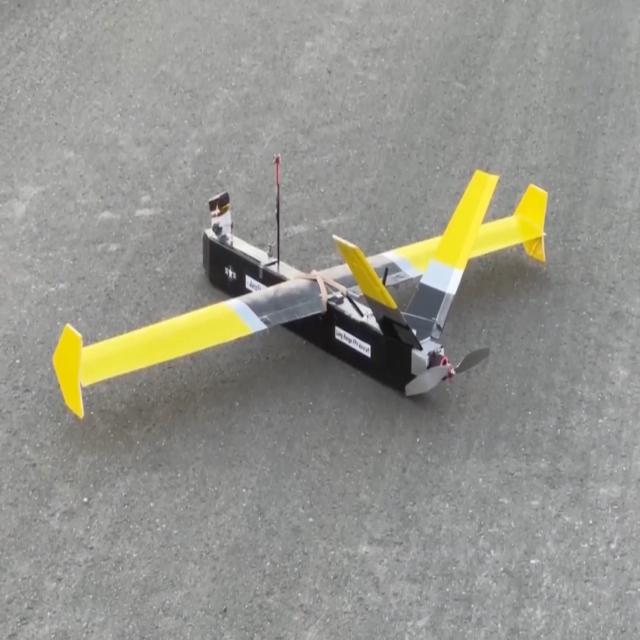iha: (53, 161, 550, 419)
